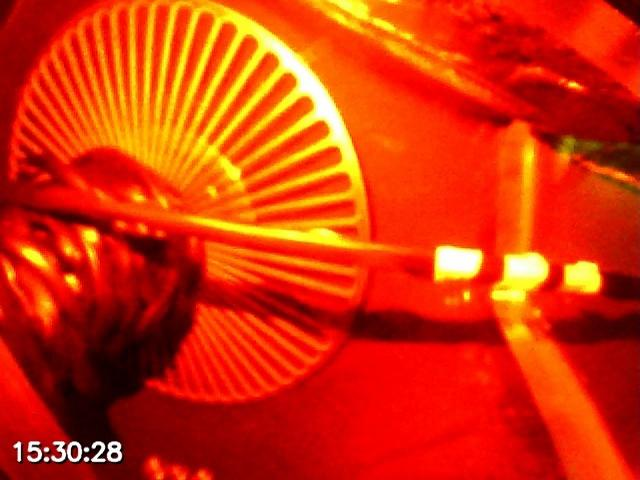white-dots: (433, 245, 602, 295)
